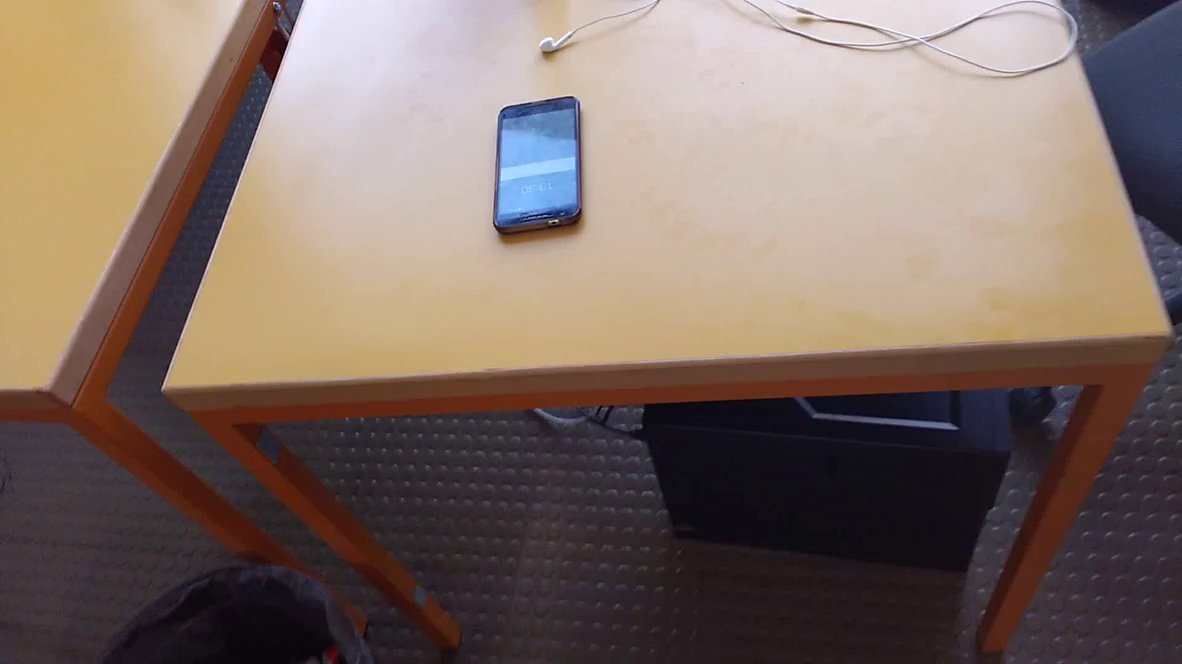phone: (472, 87, 600, 242)
